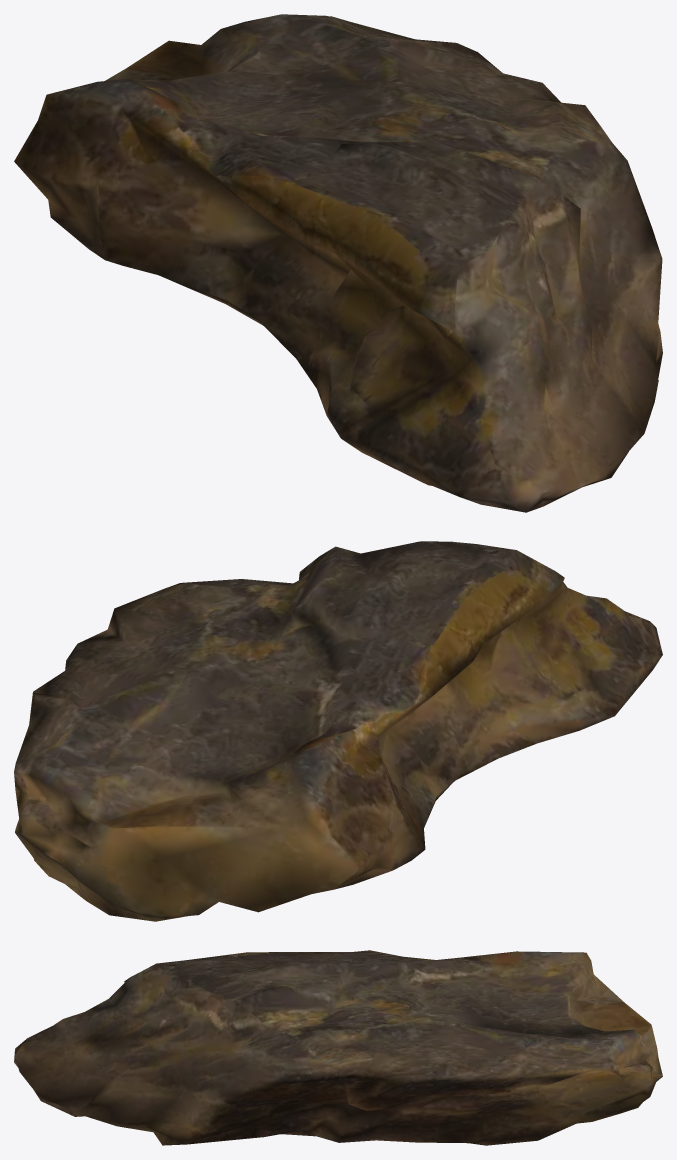
File: rock_09.glb
3 views of the same model, one above another, from view 1: azimuth 30°, elevation 25°; view 2: azimuth 150°, elevation 25°; view 3: azimuth 270°, elevation 25° (orthographic). The views are drawn at different scales.
Parts seen in each view (by area): view 1: rock_09_LOD0; view 2: rock_09_LOD0; view 3: rock_09_LOD0.
Boxes of the visible parts, left/top/right/bottom form: rock_09_LOD0: left=14, top=14, right=662, bottom=512; rock_09_LOD0: left=14, top=541, right=662, bottom=921; rock_09_LOD0: left=14, top=950, right=662, bottom=1145.
Bounding box in the file's own units: 0.0738 × 0.0326 × 0.1442.
1 material, 1 textured.
